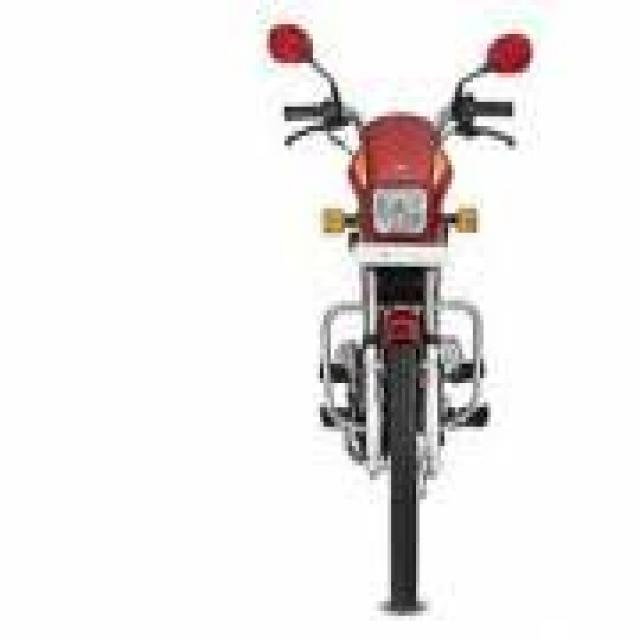Bike: (268, 21, 533, 614)
